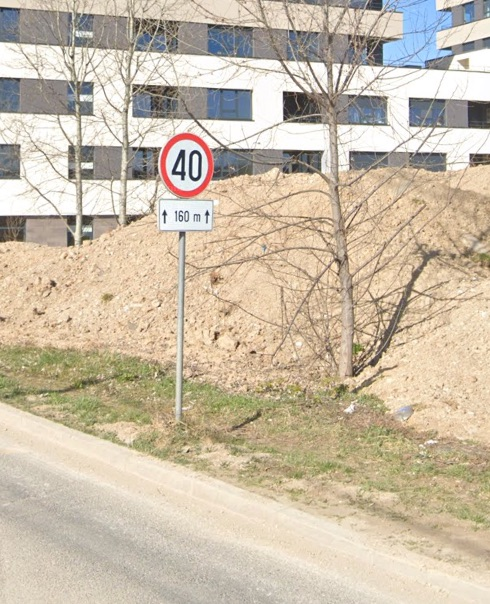Ograničenje brzine 40: (157, 133, 214, 199)
